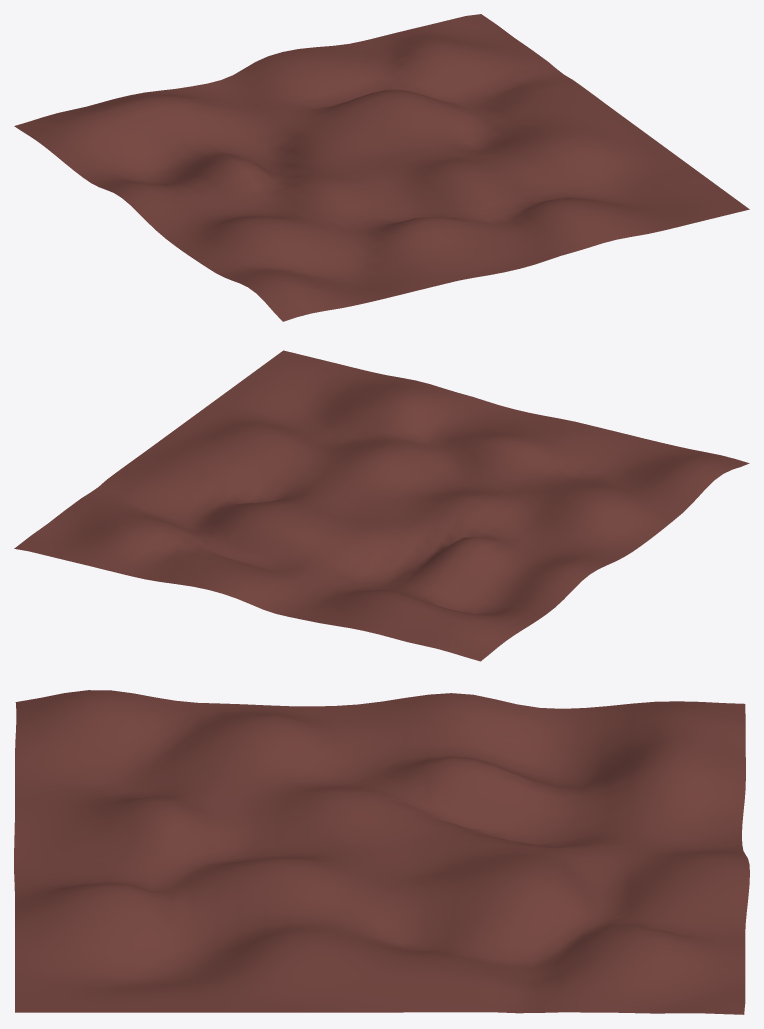
File: MM_Dirt.fbx
3 views of the same model, one above another, from view 1: azimuth 30°, elevation 25°; view 2: azimuth 150°, elevation 25°; view 3: azimuth 270°, elevation 25° (orthographic). The views are drawn at different scales.
Parts seen in each view (by area): view 1: Dirt; view 2: Dirt; view 3: Dirt.
Part boxes in pixels (left/top/right/bottom): Dirt: left=14, top=14, right=749, bottom=321; Dirt: left=14, top=350, right=749, bottom=661; Dirt: left=14, top=690, right=749, bottom=1014.
Bounding box in the file's own units: 97.7 × 7.09 × 98.25.
